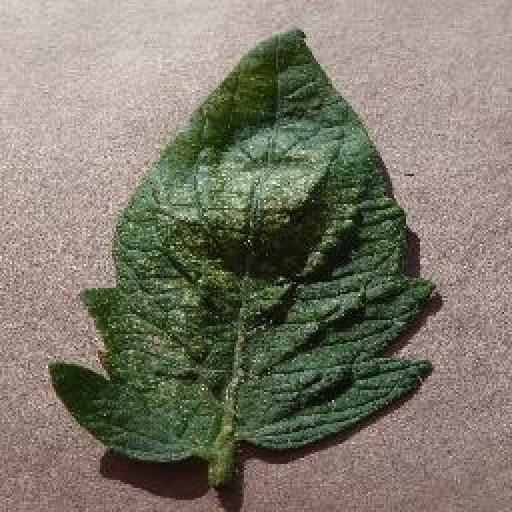Spider Mites: (48, 31, 435, 465)
